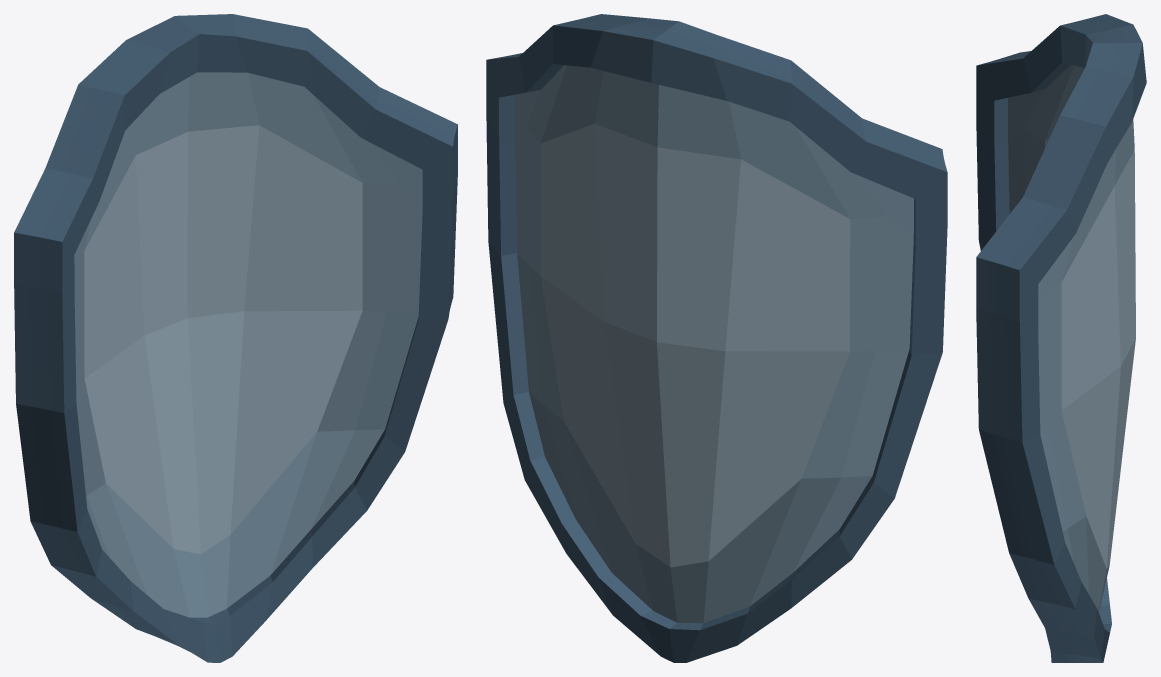
Rendered from ShieldCurved.fbx.
3 renders of one model, left to right at view 1: azimuth 30°, elevation 25°; view 2: azimuth 150°, elevation 25°; view 3: azimuth 270°, elevation 25°, orthographic. The views are drawn at different scales.
Visible parts, largest first — view 1: Cube.001; view 2: Cube.001; view 3: Cube.001.
Part boxes in pixels (<box>): Cube.001: <box>14,14,457,662</box>; Cube.001: <box>486,14,947,662</box>; Cube.001: <box>976,14,1146,662</box>.
Bounding box in the file's own units: 72.63 × 95.98 × 24.05.
